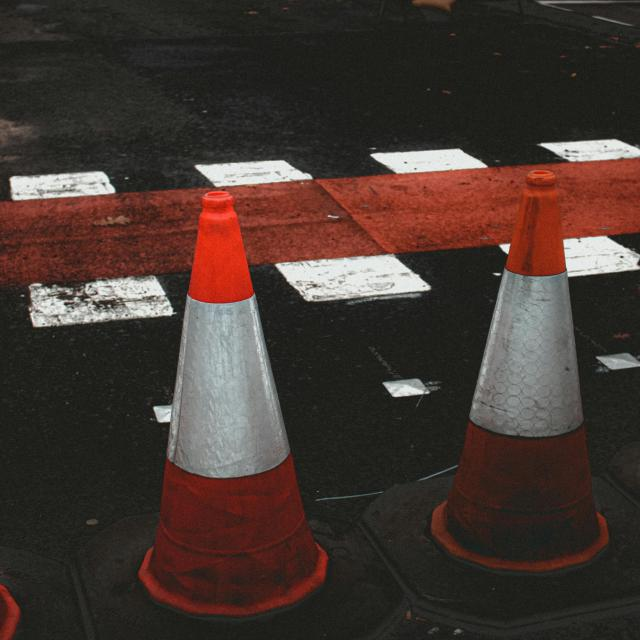Traffic Cone: (64, 167, 380, 640), (356, 149, 640, 640)
